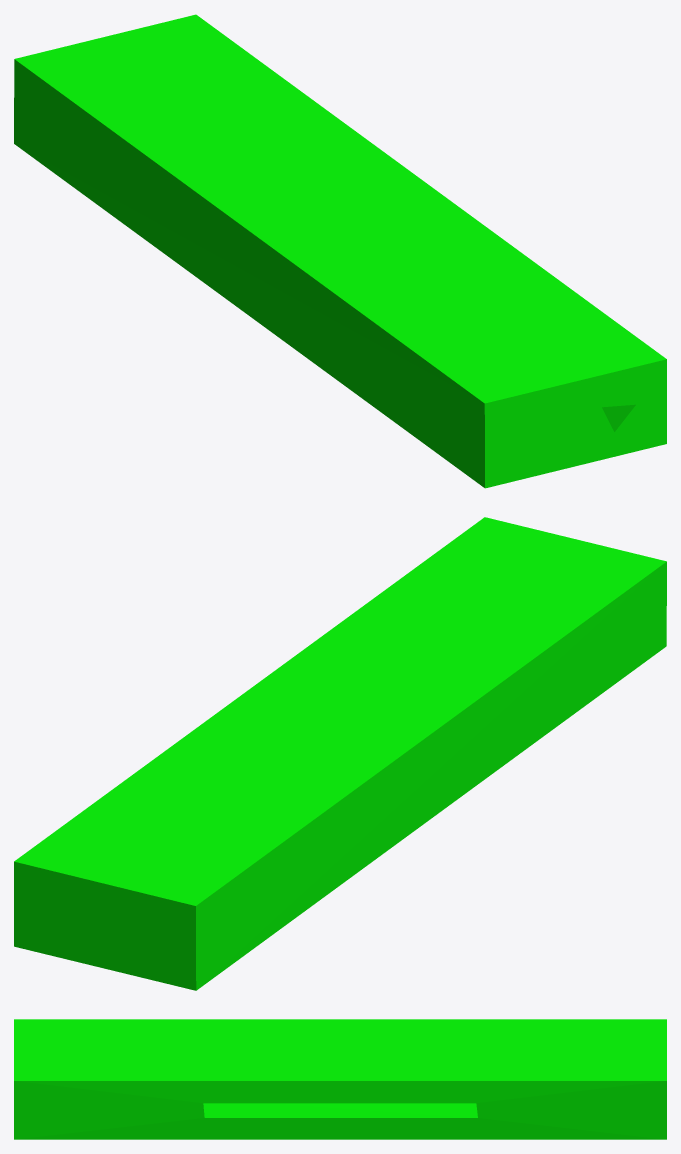
File: ryggtopp_correct.obj
The picture shows the model from 3 angles, top to bottom: view 1: azimuth 30°, elevation 25°; view 2: azimuth 150°, elevation 25°; view 3: azimuth 270°, elevation 25°; orthographic projection. The views are drawn at different scales.
Size of the model in its own units: 22.1 by 9.81 by 98.42.
